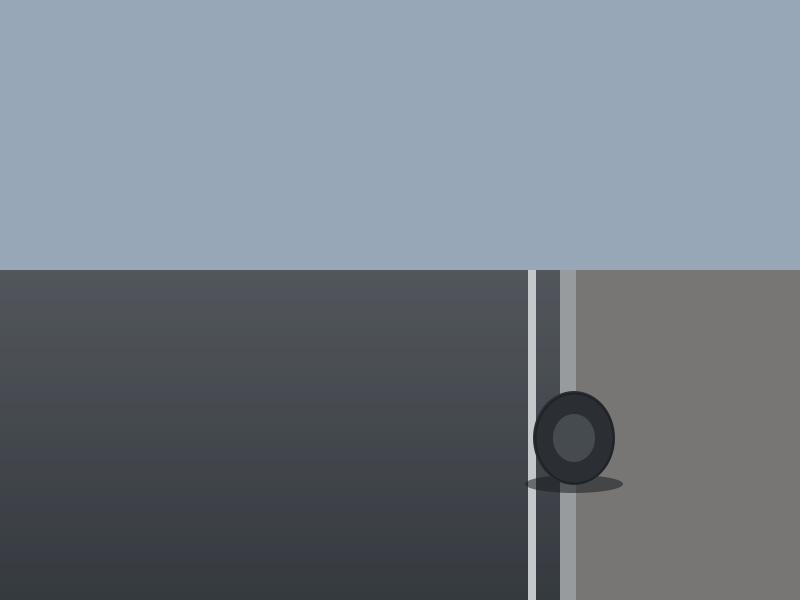ROAD_OBSTACLE: (533, 391, 615, 485)
